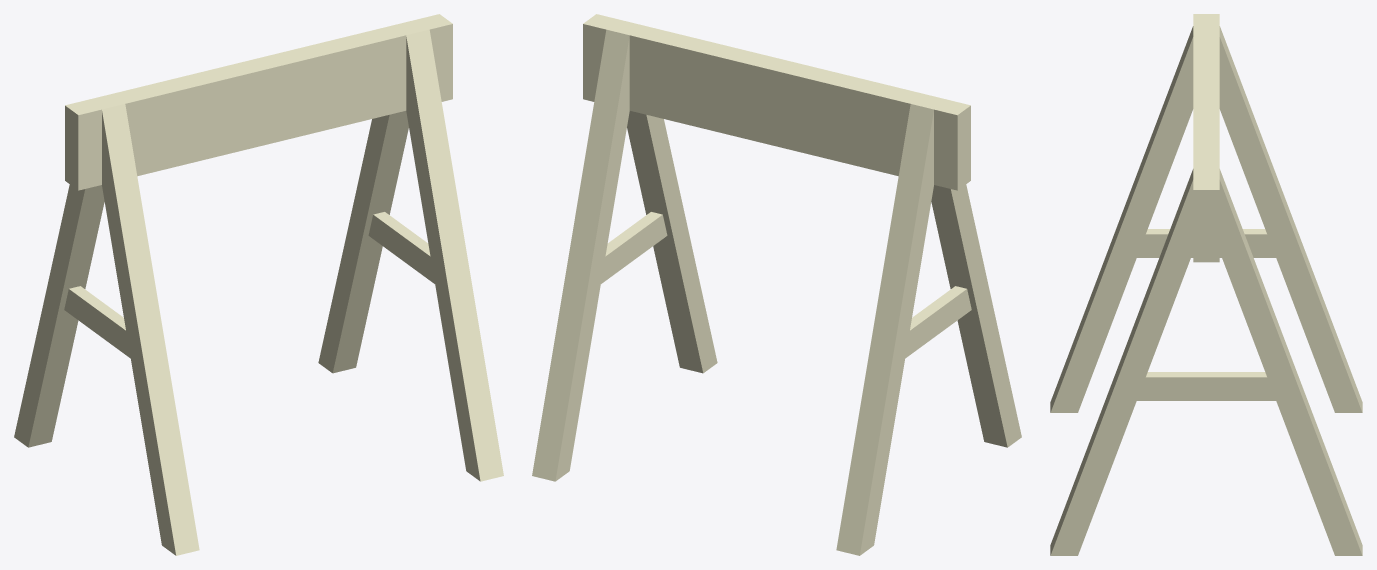
File: Trestle.glb
3 renders of one model, left to right at view 1: azimuth 30°, elevation 25°; view 2: azimuth 150°, elevation 25°; view 3: azimuth 270°, elevation 25°, orthographic. The views are drawn at different scales.
Parts seen in each view (by area): view 1: Trestle; view 2: Trestle; view 3: Trestle.
Part boxes in pixels (<box>): Trestle: <box>14,14,503,555</box>; Trestle: <box>532,14,1021,555</box>; Trestle: <box>1050,14,1362,555</box>.
Bounding box in the file's own units: 0.8 × 0.8 × 0.6.
